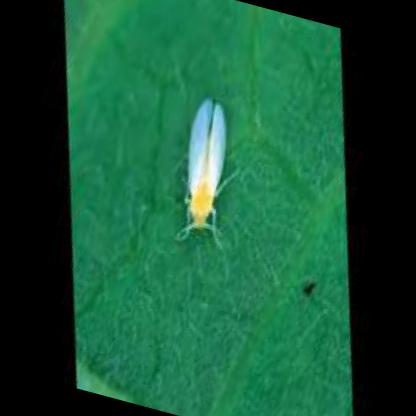whitefly: (184, 101, 225, 232)
